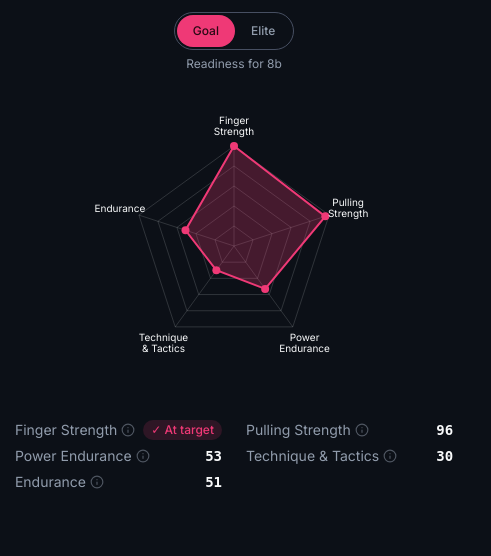
Test: tooltips › says plainly that a greyed axis has no benchmark
Click the button "Elite". click: (263, 31)
box: [235, 15, 291, 47]
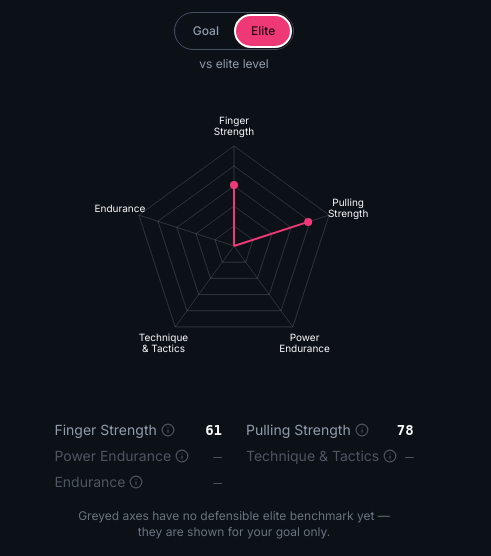
Click the button named "Info about Technique & Tactics". click: (390, 456)
box: [383, 449, 397, 463]
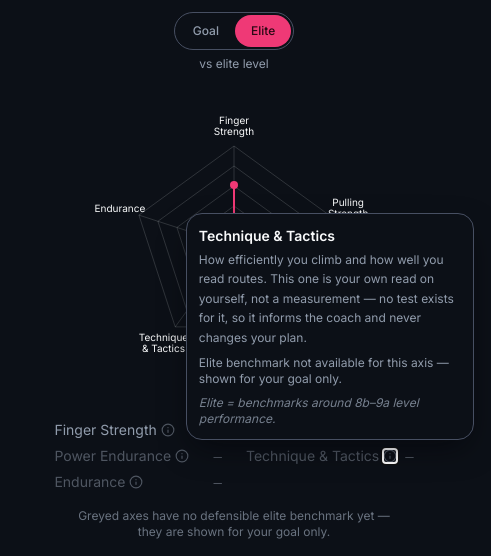
Check: the tooltip shows "Elite benchmark not available for this axis", box [199, 355, 449, 386]
